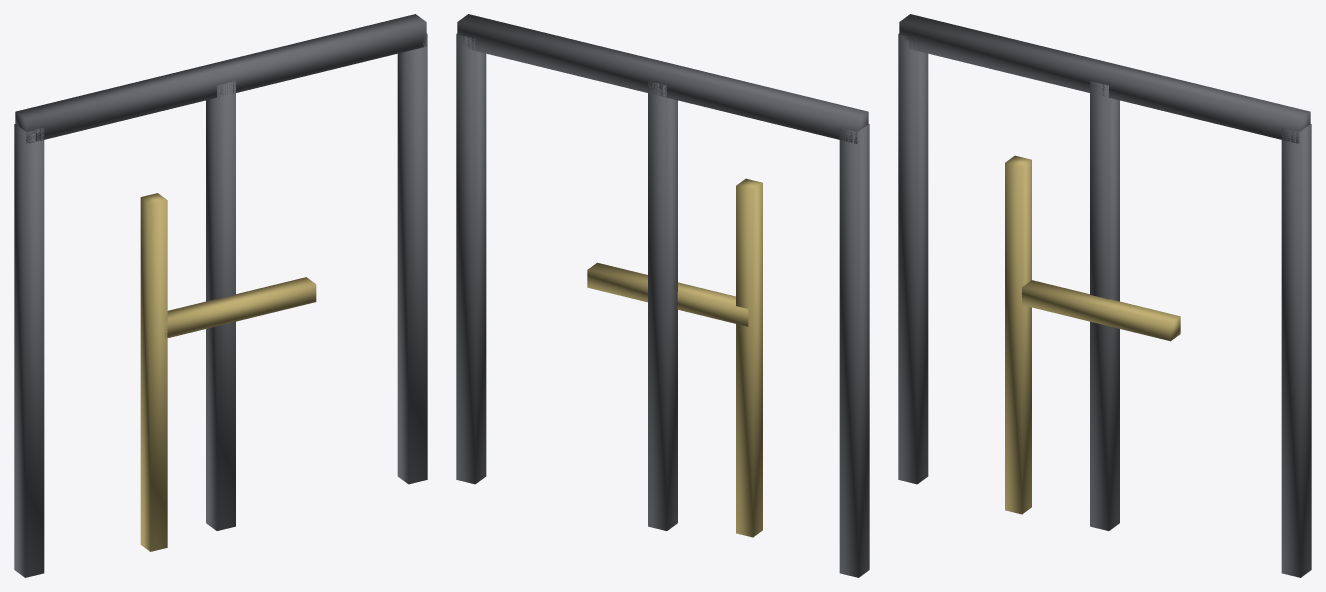
File: industrial_gate_l90_h100.glb
3 renders of one model, left to right at view 1: azimuth 30°, elevation 25°; view 2: azimuth 150°, elevation 25°; view 3: azimuth 330°, elevation 25°, orthographic.
Parts seen in each view (by area): view 1: world; view 2: world; view 3: world.
Boxes of the visible parts, x1=… form: world: x1=14, y1=14, x2=427, y2=577; world: x1=456, y1=14, x2=869, y2=577; world: x1=898, y1=14, x2=1311, y2=577.
Bounding box in the file's own units: 0.945 × 1.03 × 0.0825.
